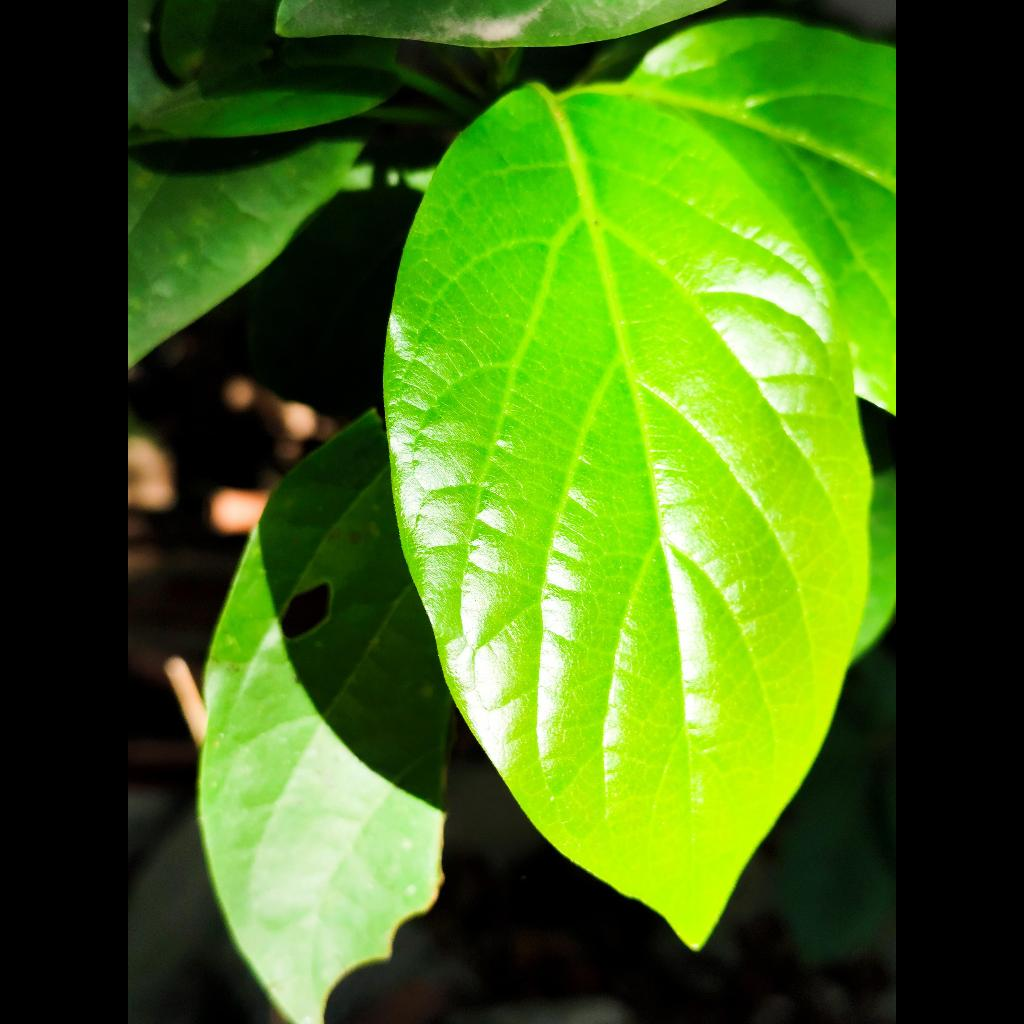Healthy: (385, 47, 869, 946)
